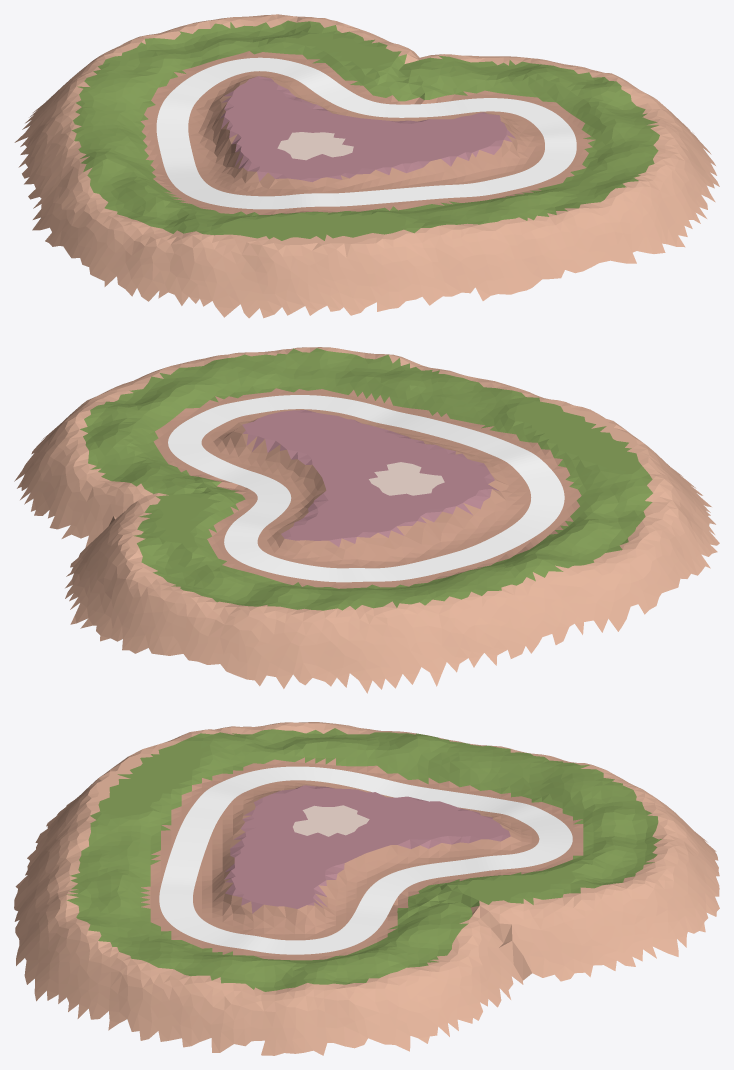
File: island-base.glb
3 renders of one model, top to bottom at view 1: azimuth 30°, elevation 25°; view 2: azimuth 150°, elevation 25°; view 3: azimuth 270°, elevation 25°, orthographic. The views are drawn at different scales.
Visible parts, largest first — view 1: 陸地, Circle.001; view 2: 陸地, Circle.001; view 3: 陸地, Circle.001.
Boxes of the visible parts, <box> form: 陸地: <box>14,14,719,318</box>; Circle.001: <box>156,57,576,209</box>; 陸地: <box>14,347,719,693</box>; Circle.001: <box>168,395,564,582</box>; 陸地: <box>14,722,719,1055</box>; Circle.001: <box>159,766,572,954</box>.
Bounding box in the file's own units: 60.65 × 5.48 × 58.26.
